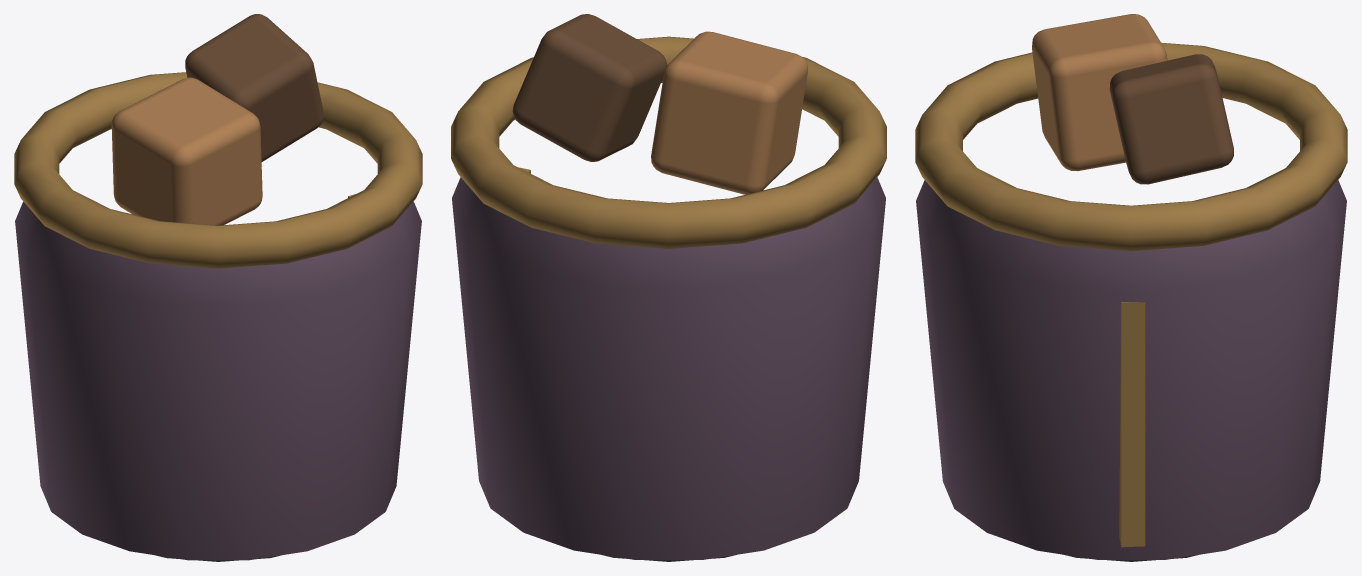
Rendered from sk_dice_cup.glb.
3 views of the same model, side by side, from view 1: azimuth 30°, elevation 25°; view 2: azimuth 150°, elevation 25°; view 3: azimuth 270°, elevation 25° (orthographic). The views are drawn at different scales.
Visible parts, largest first — view 1: cloth, metal, wood; view 2: cloth, wood, metal; view 3: cloth, metal, wood.
Boxes of the visible parts, x1=… form: cloth: x1=15, y1=201, x2=421, y2=560; metal: x1=14, y1=72, x2=422, y2=561; wood: x1=111, y1=14, x2=323, y2=225; cloth: x1=452, y1=177, x2=885, y2=559; wood: x1=512, y1=14, x2=807, y2=194; metal: x1=451, y1=36, x2=886, y2=561; cloth: x1=916, y1=180, x2=1346, y2=559; metal: x1=915, y1=42, x2=1347, y2=561; wood: x1=1032, y1=14, x2=1233, y2=184.
Size of the model in its own units: 0.326 by 0.3859 by 0.321.
